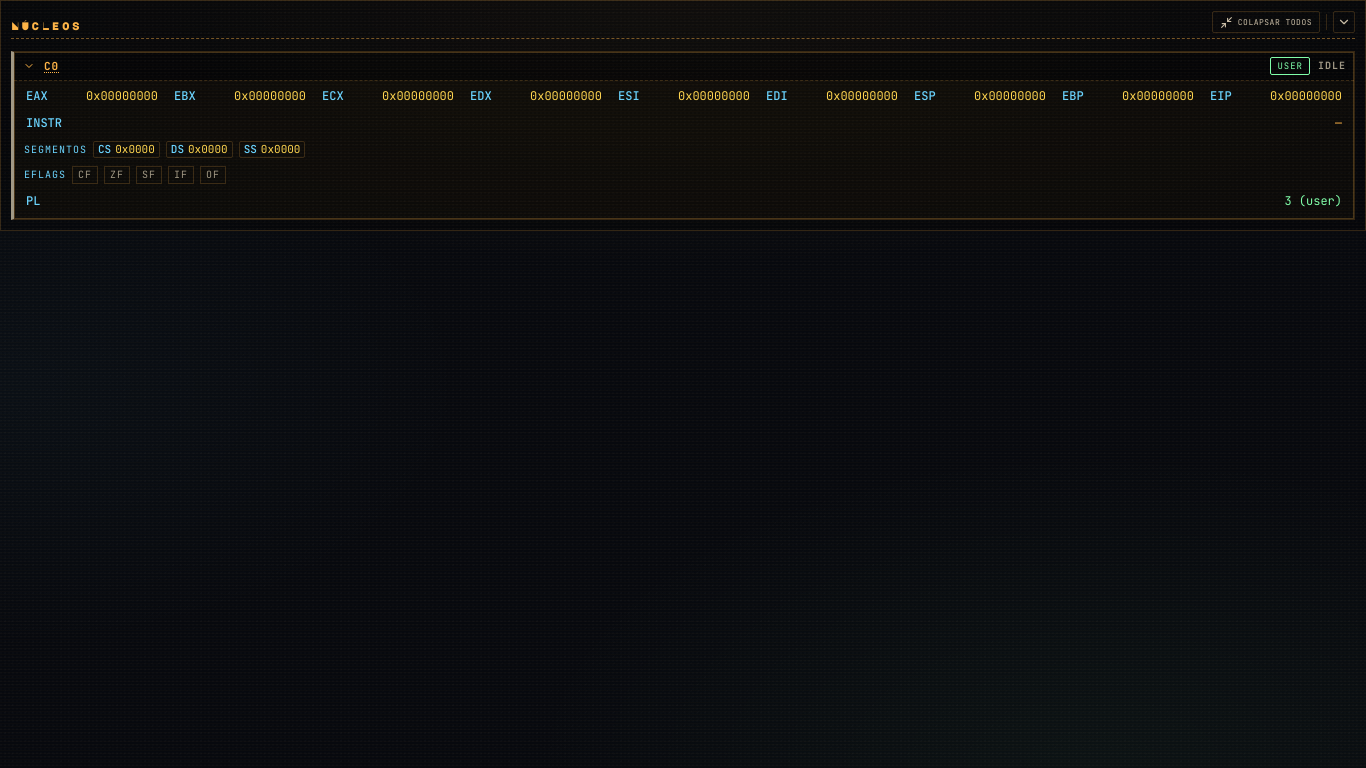
Test: CpuPanel explanations › replaces the tip when another element is tapped
The image size is (1366, 768).
Click the element showing "EAX 0x00000000". click: (92, 97)
box: [24,87,160,106]
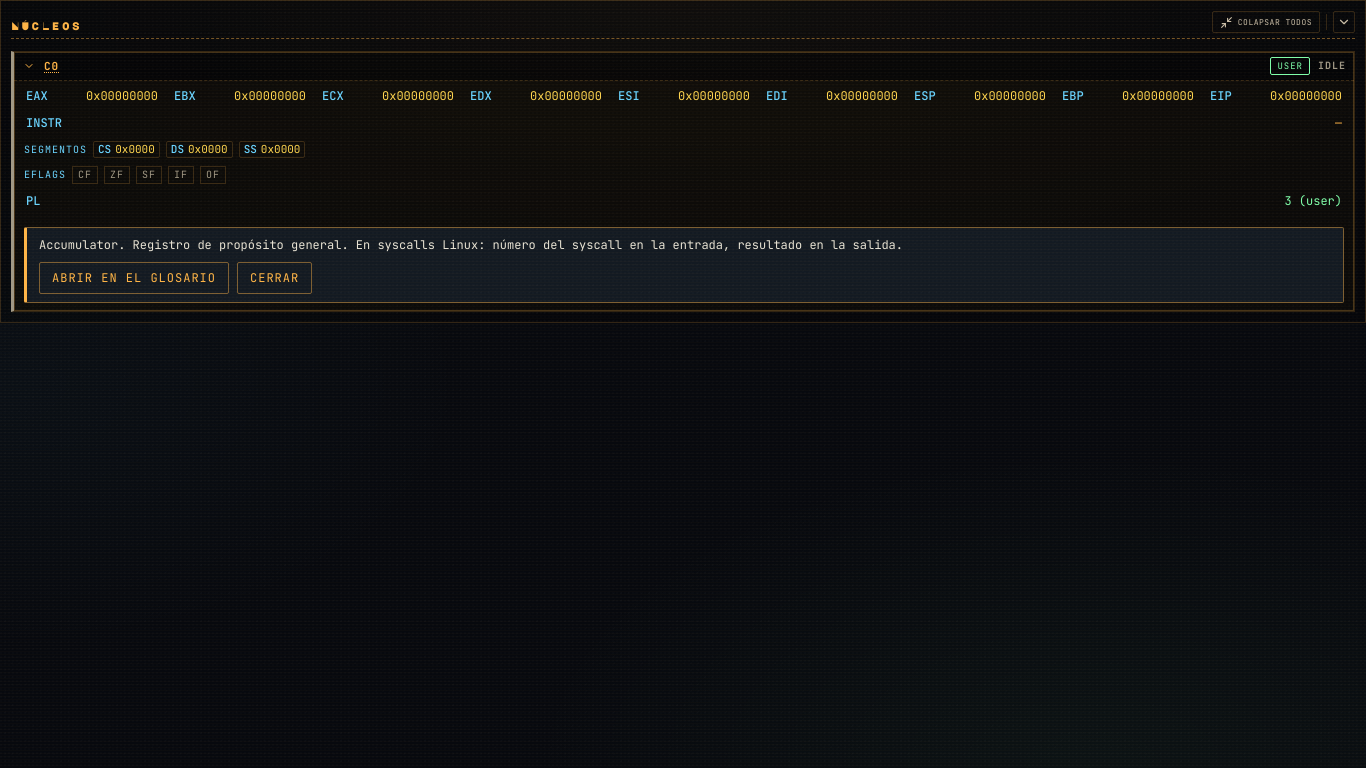
Click the element showing "PL 3 (user)". click: (1313, 201)
box: [24,192,1344,211]
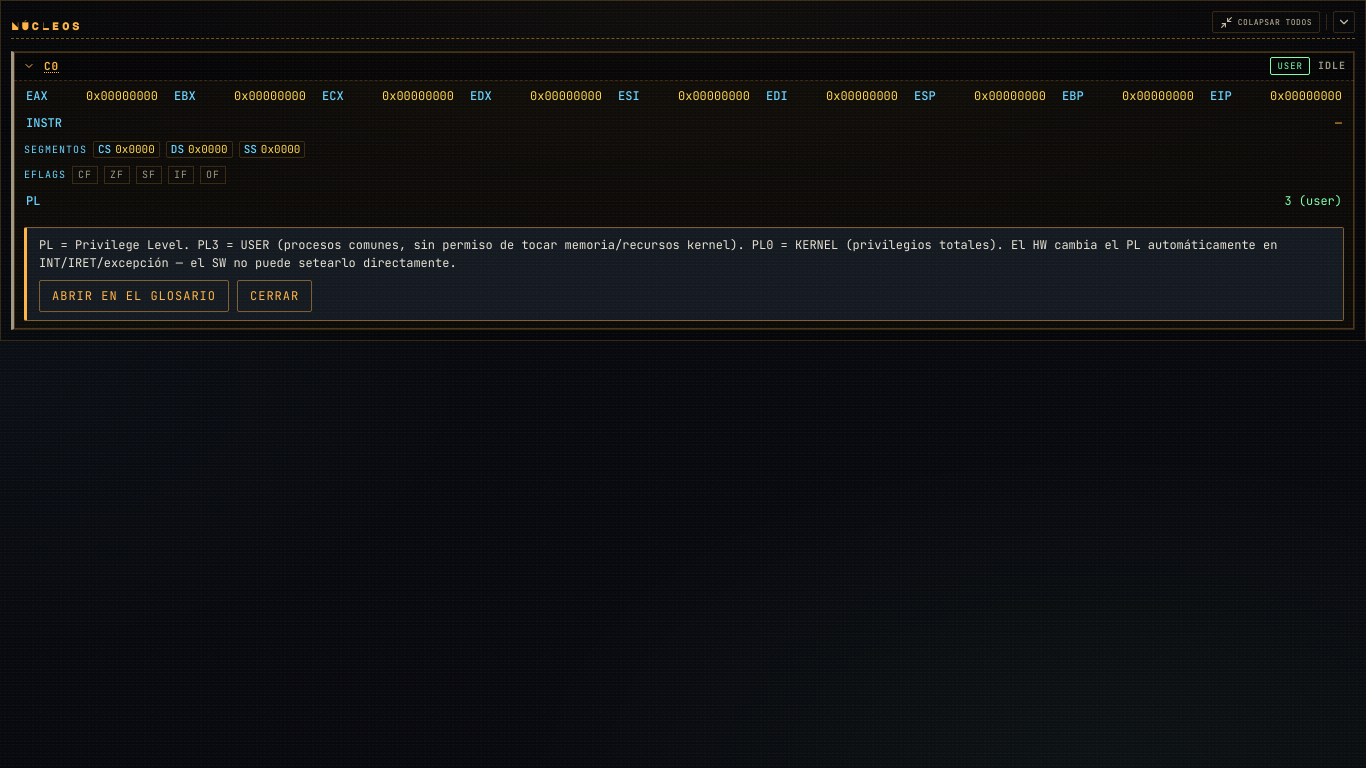
Check: the number of messages with test id "cpu-tip" is 1, box [24,227,1344,321]
Check: the message with test id "cpu-tip" shows "Privilege Level", box [39,237,1277,271]
